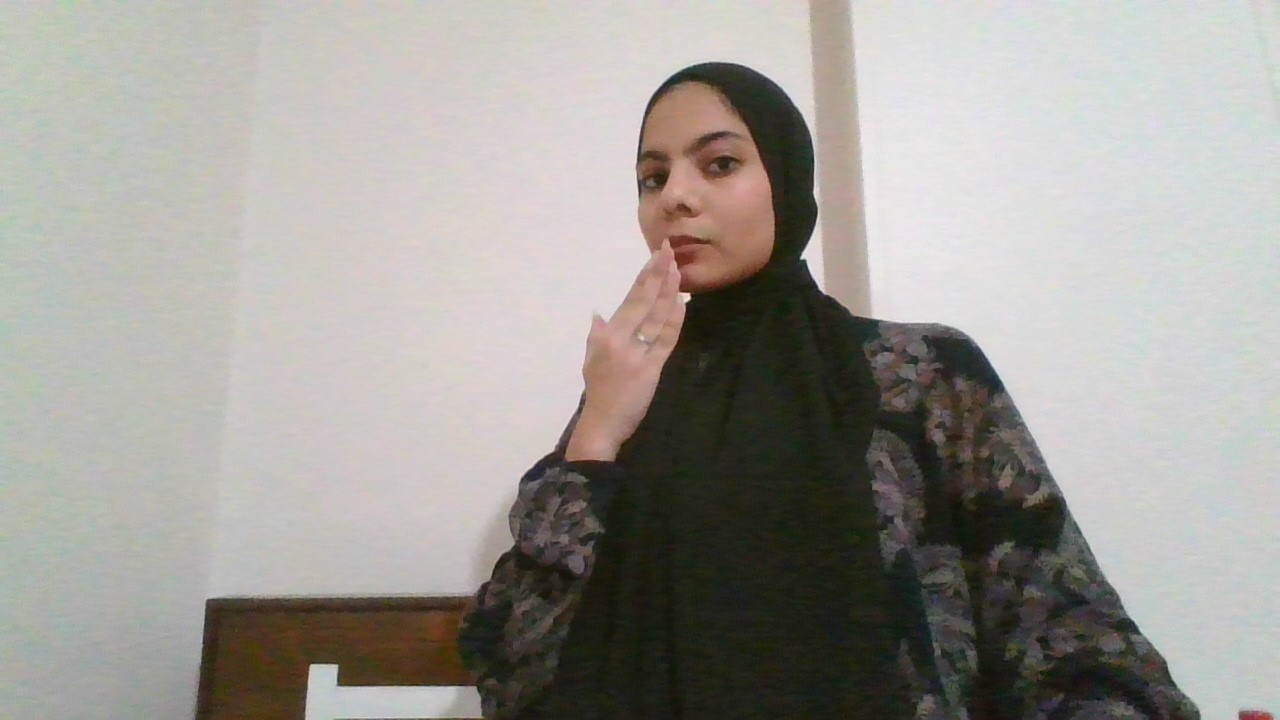thankyou: (565, 234, 691, 421)
